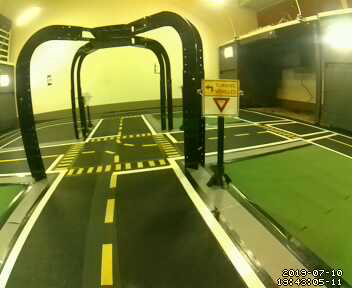Turn Yield: (200, 78, 239, 118)
